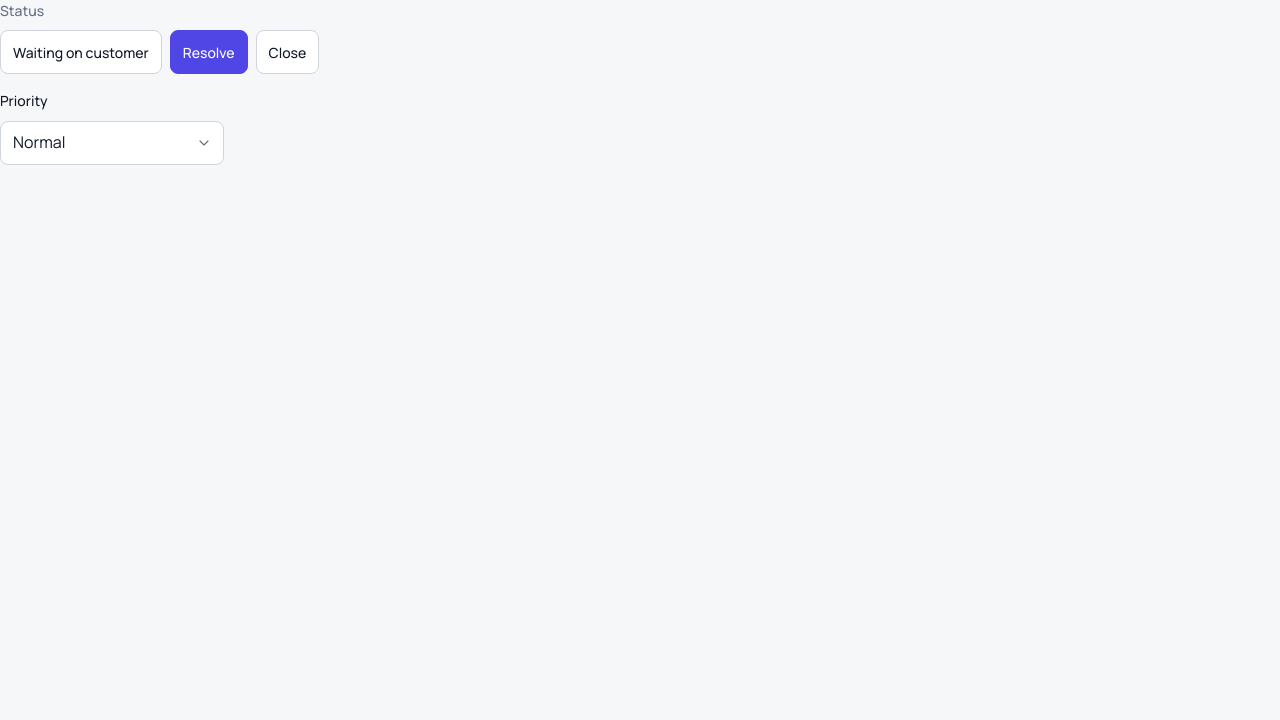
Scenario: one-way moves are confirmed › writes nothing on the first click — the confirmation comes first
This screenshot has width=1280, height=720.
Click the button "Resolve" at (209, 52), box [170,30,248,74]
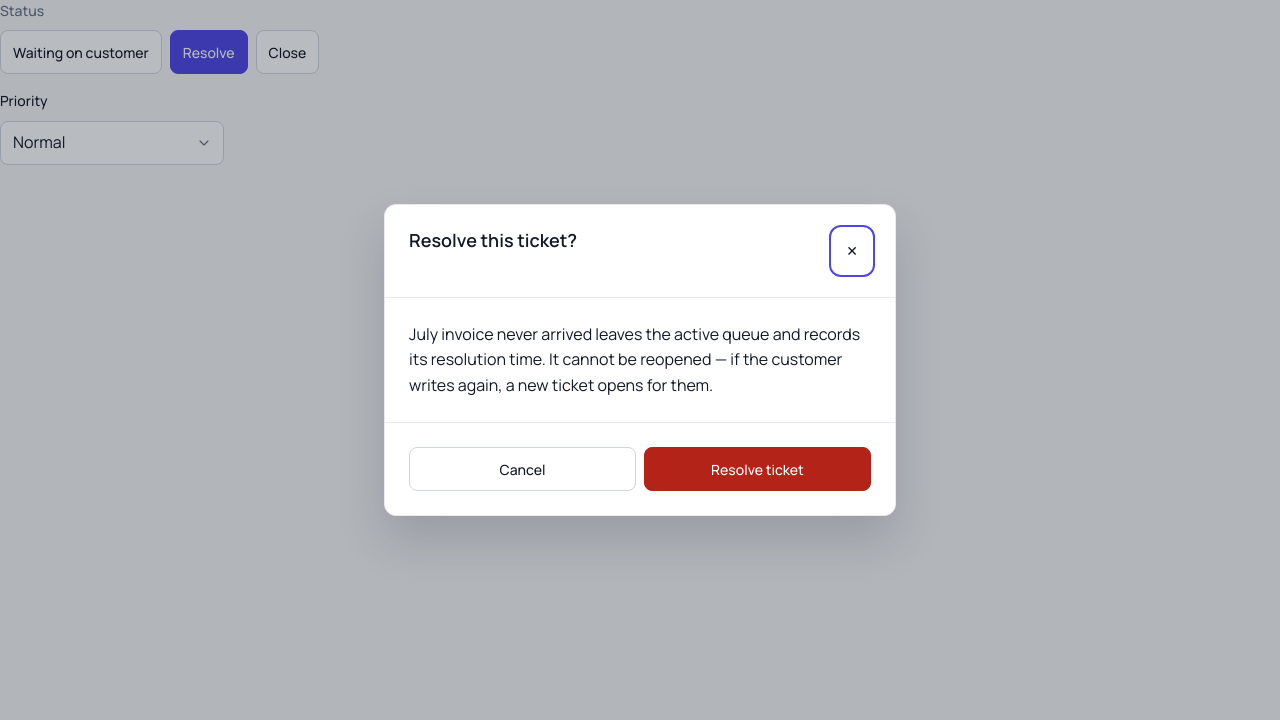
Expected: the dialog is shown, [384,204,896,516]
